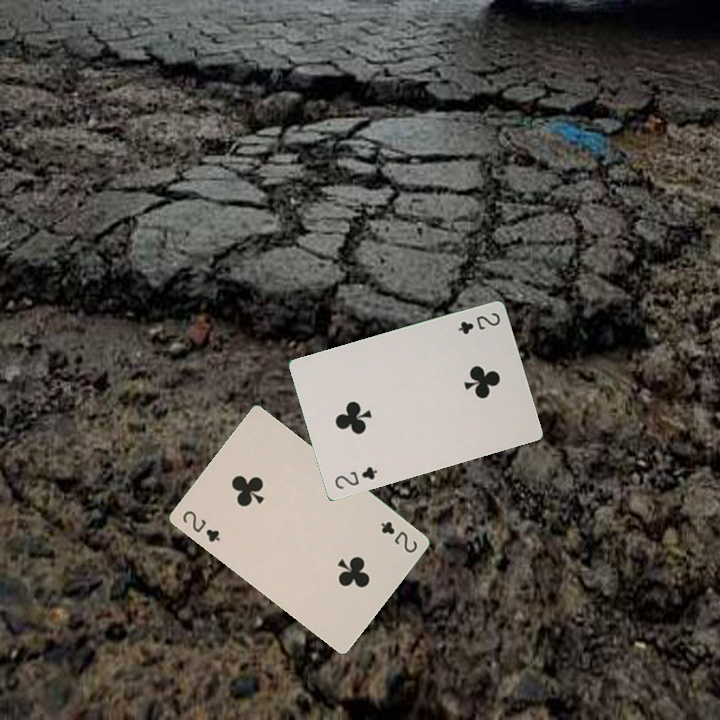2c: (178, 506, 223, 545), (376, 517, 420, 556), (331, 463, 380, 492), (454, 308, 503, 337)
